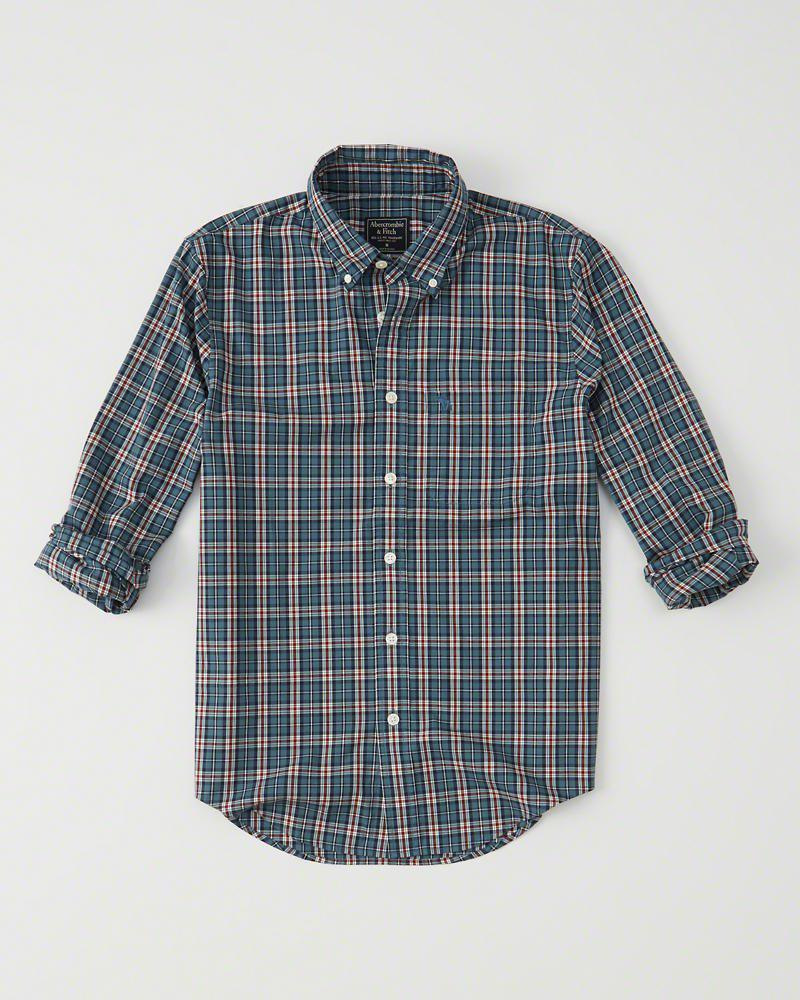teeshirt: (36, 139, 765, 868)
